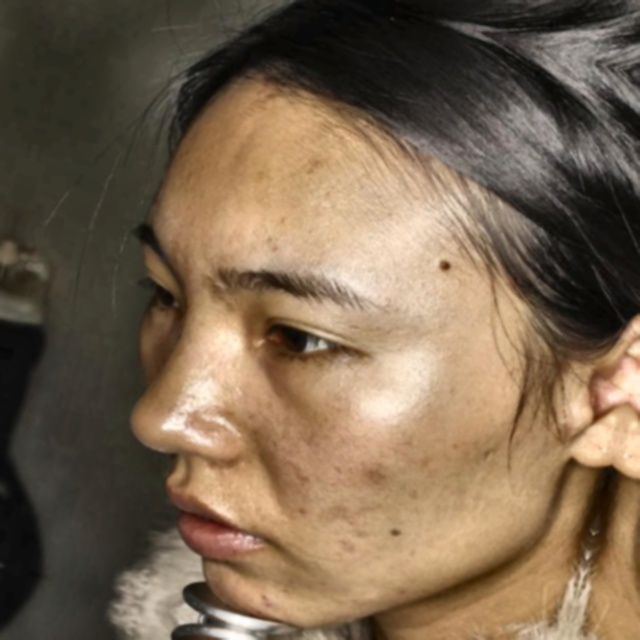comedone: (244, 574, 293, 619), (353, 452, 399, 496), (348, 574, 388, 622)
